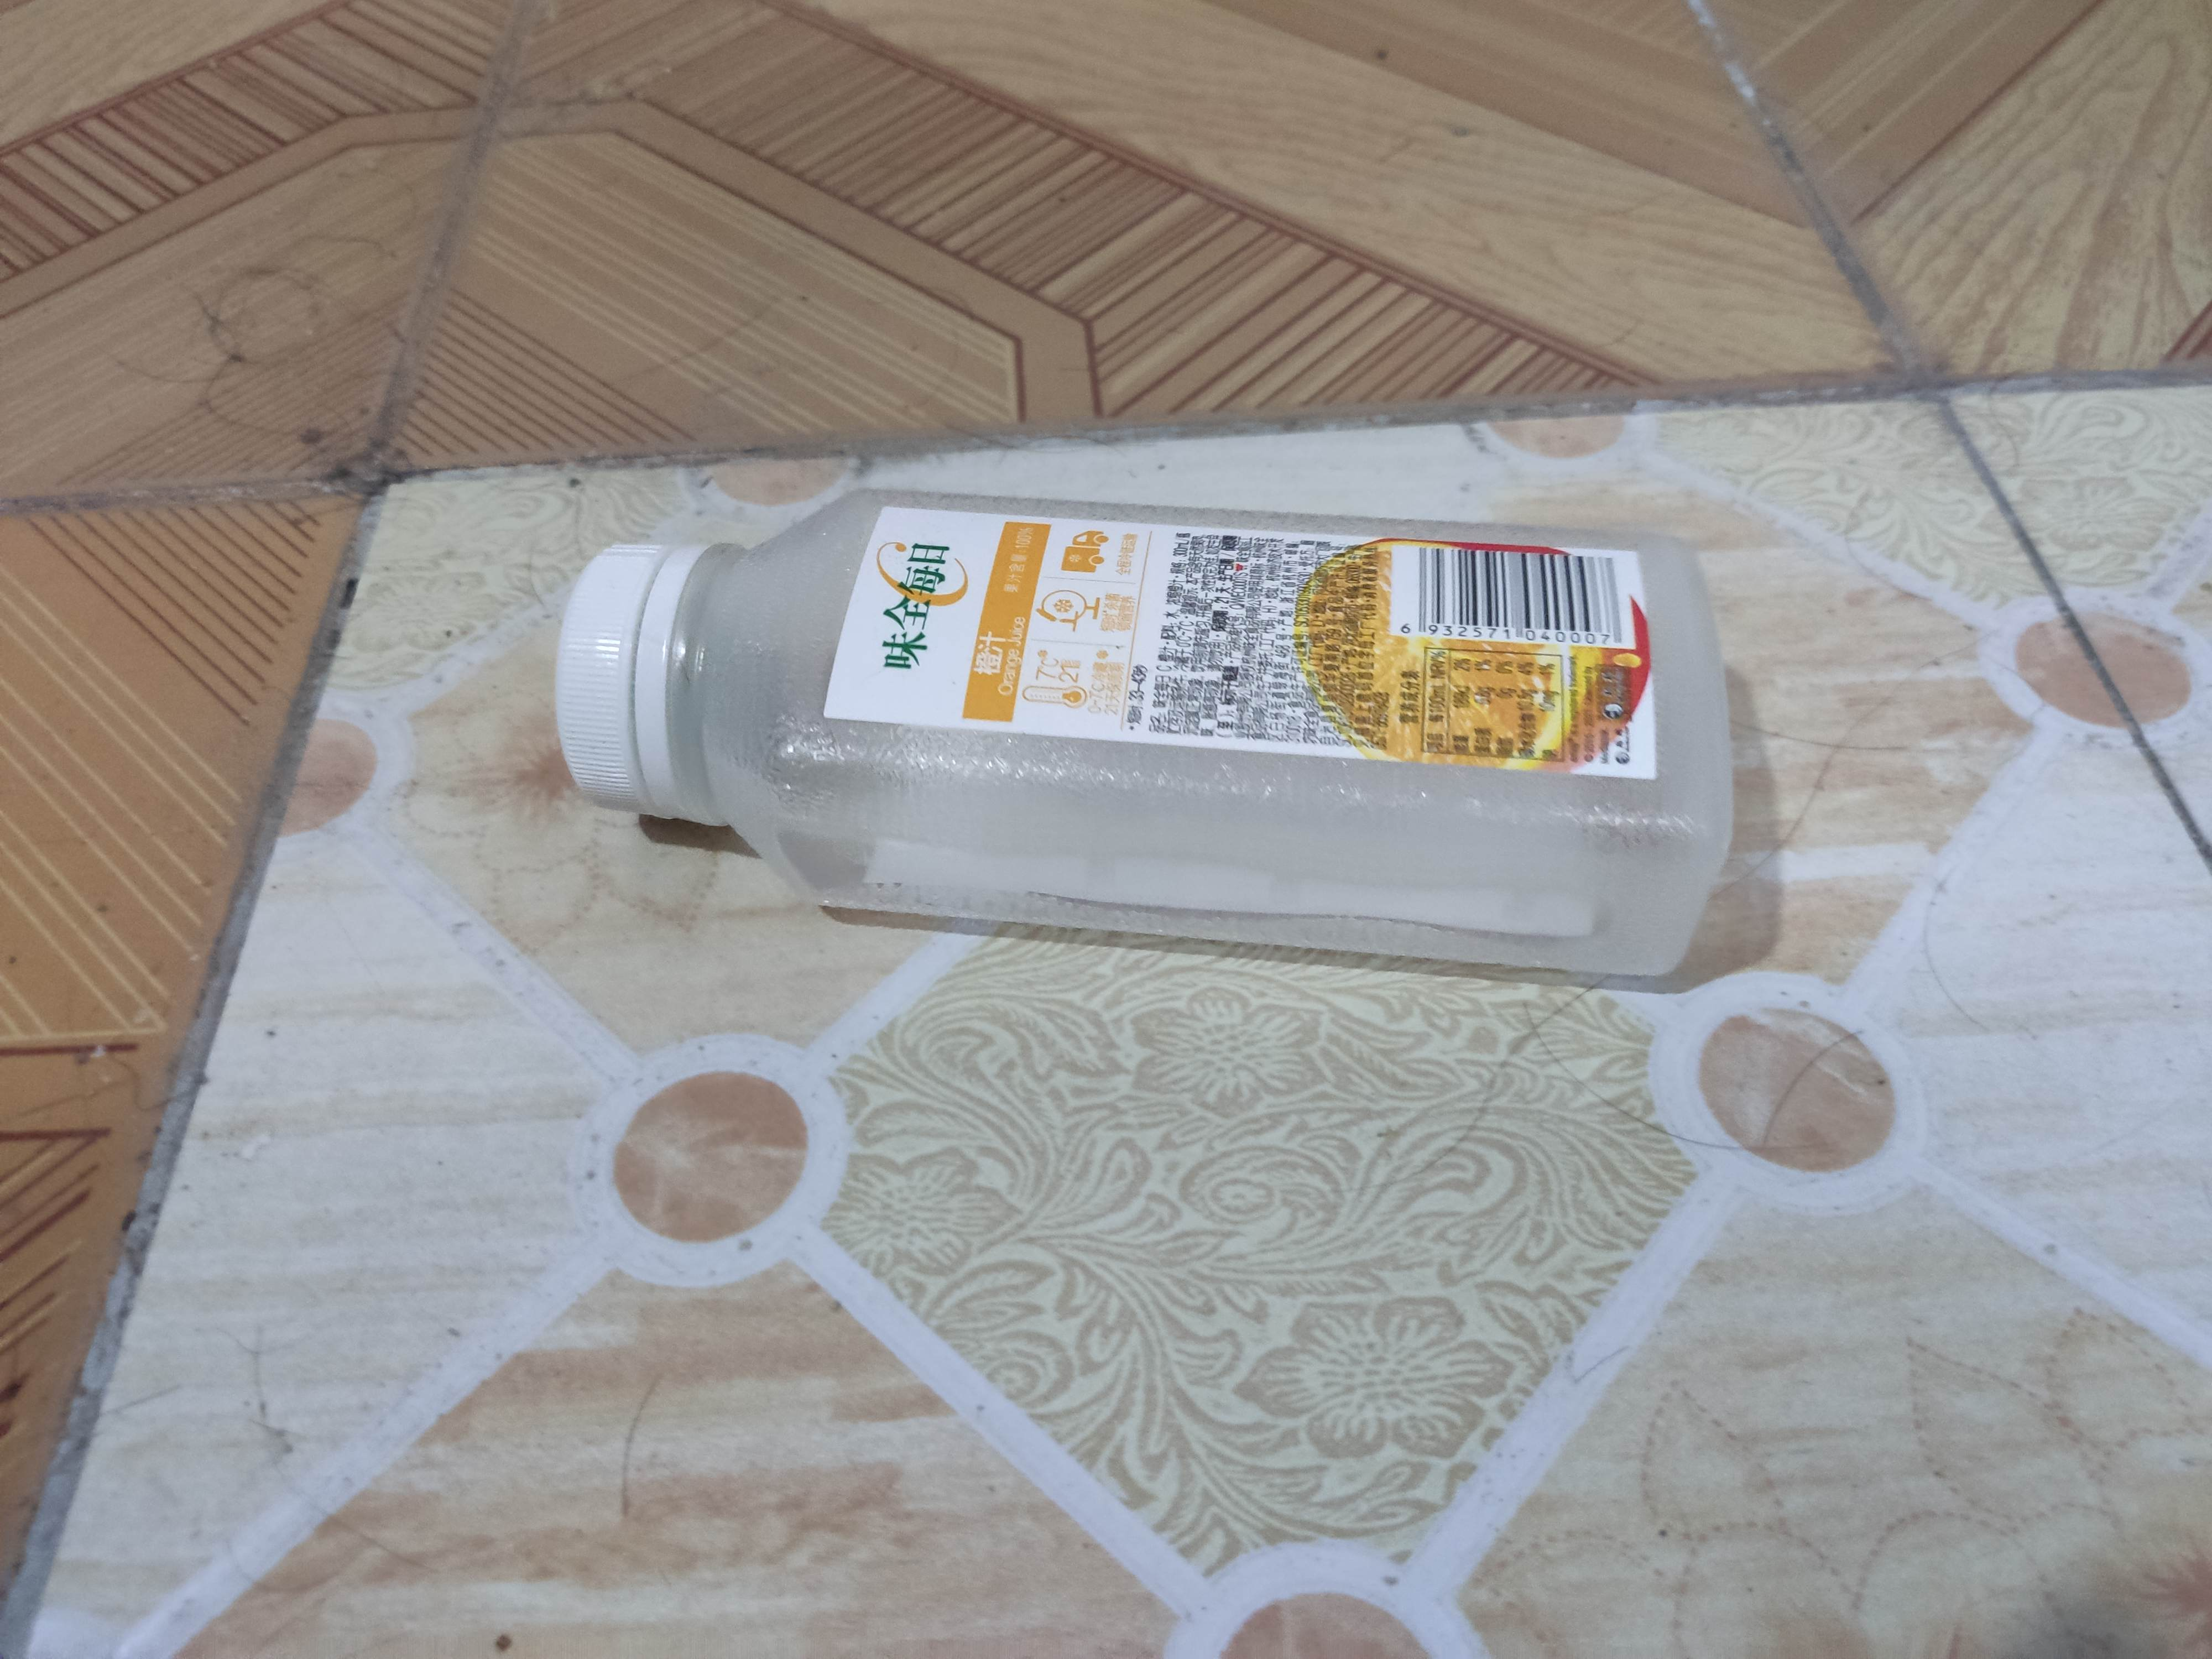Plastic Bottle: (543, 481, 1738, 995)
